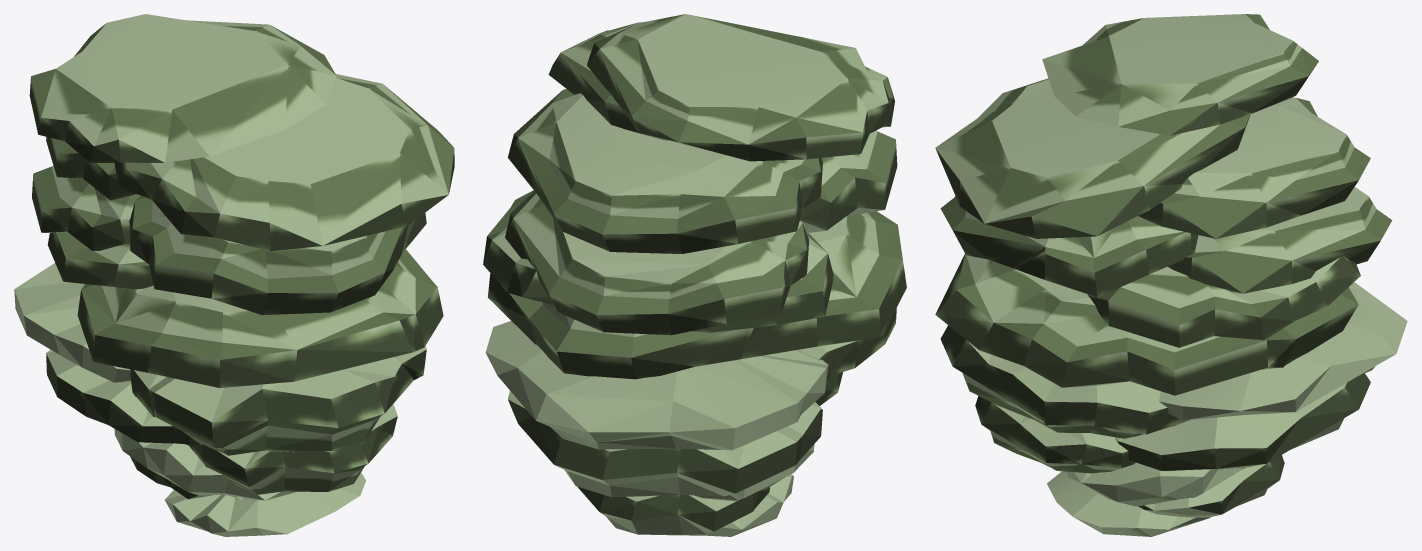
The model's file is EA_Swamp_Fungus_02b.glb.
3 renders of one model, left to right at view 1: azimuth 30°, elevation 25°; view 2: azimuth 150°, elevation 25°; view 3: azimuth 270°, elevation 25°, orthographic. The views are drawn at different scales.
Parts seen in each view (by area): view 1: EA_Swamp_Fungus_02b; view 2: EA_Swamp_Fungus_02b; view 3: EA_Swamp_Fungus_02b.
Boxes of the visible parts, x1=… form: EA_Swamp_Fungus_02b: x1=14, y1=14, x2=454, y2=536; EA_Swamp_Fungus_02b: x1=483, y1=14, x2=906, y2=536; EA_Swamp_Fungus_02b: x1=935, y1=14, x2=1407, y2=536.
Bounding box in the file's own units: 1.13 × 1.44 × 1.39.
1 material, 1 textured.
